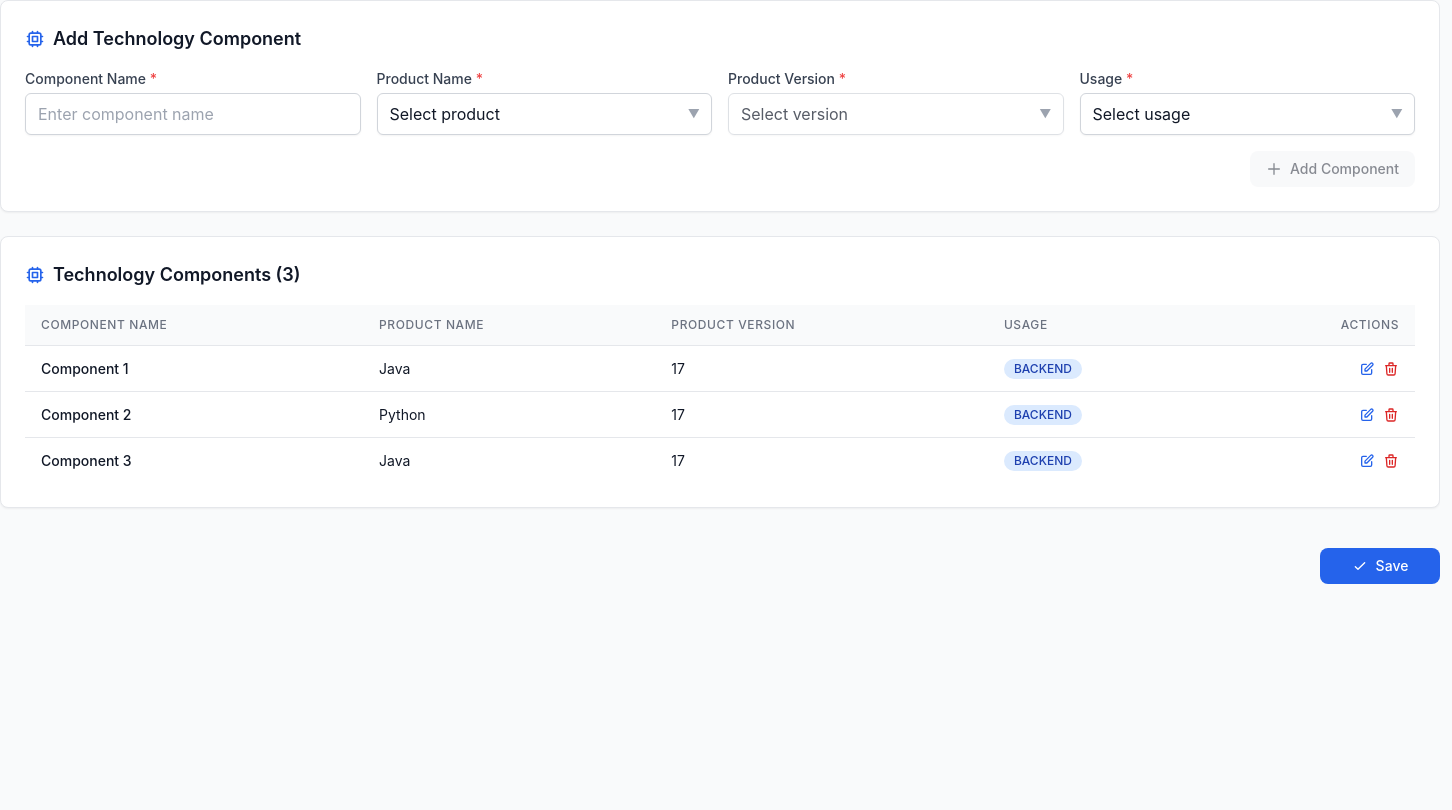
Test: TechnologyComponentStep › Component Deletion › removes correct component from list when multiple components exist
Check: the text "Component 1" is shown, box left=25, top=346, right=363, bottom=392
Check: the text "Component 2" is shown, box left=25, top=392, right=363, bottom=438
# Delete the second component (Component 2)
Step 1. Click the button named "Delete" in the row of "Component 2" → (1391, 414), box left=1383, top=406, right=1399, bottom=422
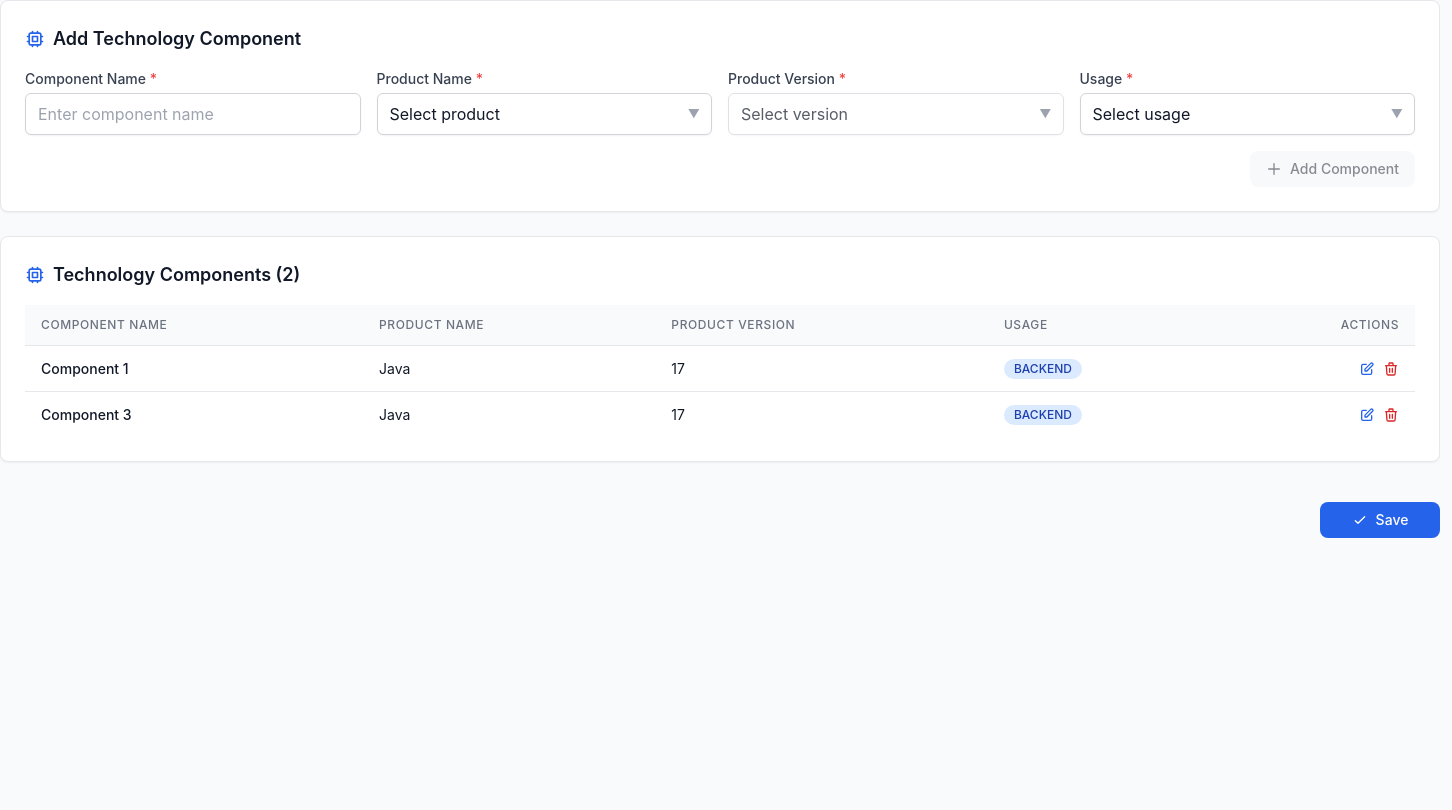
Check: the text "Component 1" is shown, box left=25, top=346, right=363, bottom=392
Check: the text "Component 2" is gone
